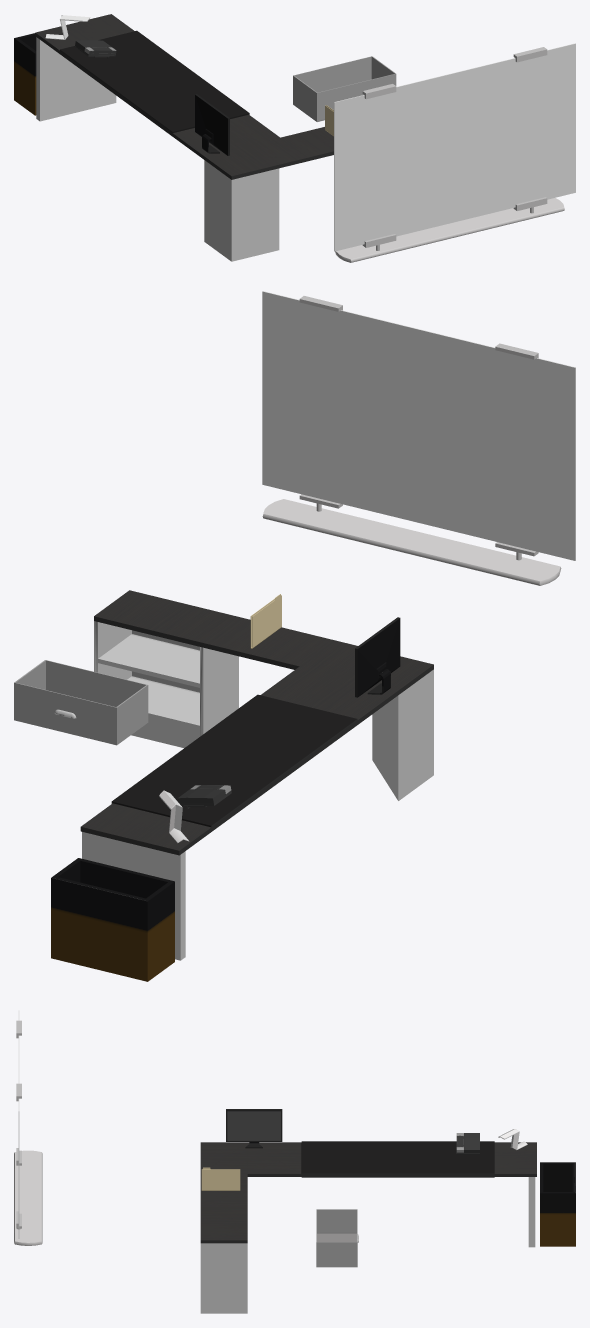
Rendered from Office.FBX.
3 views of the same model, one above another, from view 1: azimuth 30°, elevation 25°; view 2: azimuth 150°, elevation 25°; view 3: azimuth 270°, elevation 25° (orthographic). The views are drawn at different scales.
Visible parts, largest first — view 1: Box003_Box003_auv, Object002_, Box001_Box001_auv, PC_Monitor_PC_Monitor_auv, Object003_Material__226, Desk_Lamp_Desk_Lamp_auv; view 2: Box003_Box003_auv, Object002_, Box001_Box001_auv, PC_Monitor_PC_Monitor_auv, Folder_UVMAPPED_Object002_sep10_auv; view 3: Object002_, Box003_Box003_auv, Box001_Box001_auv, PC_Monitor_PC_Monitor_auv, Folder_UVMAPPED_Object002_sep10_auv.
Part boxes in pixels (x1,y1,x2,y2): Box003_Box003_auv: (334,43,575,262); Object002_: (35,14,396,261); Box001_Box001_auv: (14,33,36,115); PC_Monitor_PC_Monitor_auv: (195,94,229,155); Object003_Material__226: (74,40,115,58); Desk_Lamp_Desk_Lamp_auv: (45,15,90,39); Box003_Box003_auv: (262,291,575,585); Object002_: (14,590,433,960); Box001_Box001_auv: (51,858,174,981); PC_Monitor_PC_Monitor_auv: (355,617,400,697); Folder_UVMAPPED_Object002_sep10_auv: (250,594,281,648); Object002_: (200,1141,536,1313); Box003_Box003_auv: (14,1010,42,1245); Box001_Box001_auv: (540,1162,575,1246); PC_Monitor_PC_Monitor_auv: (226,1109,282,1148); Folder_UVMAPPED_Object002_sep10_auv: (201,1167,240,1190).
Bounding box in the file's own units: 234 × 223 × 552.
Materials: 2 (2 with a texture image).
